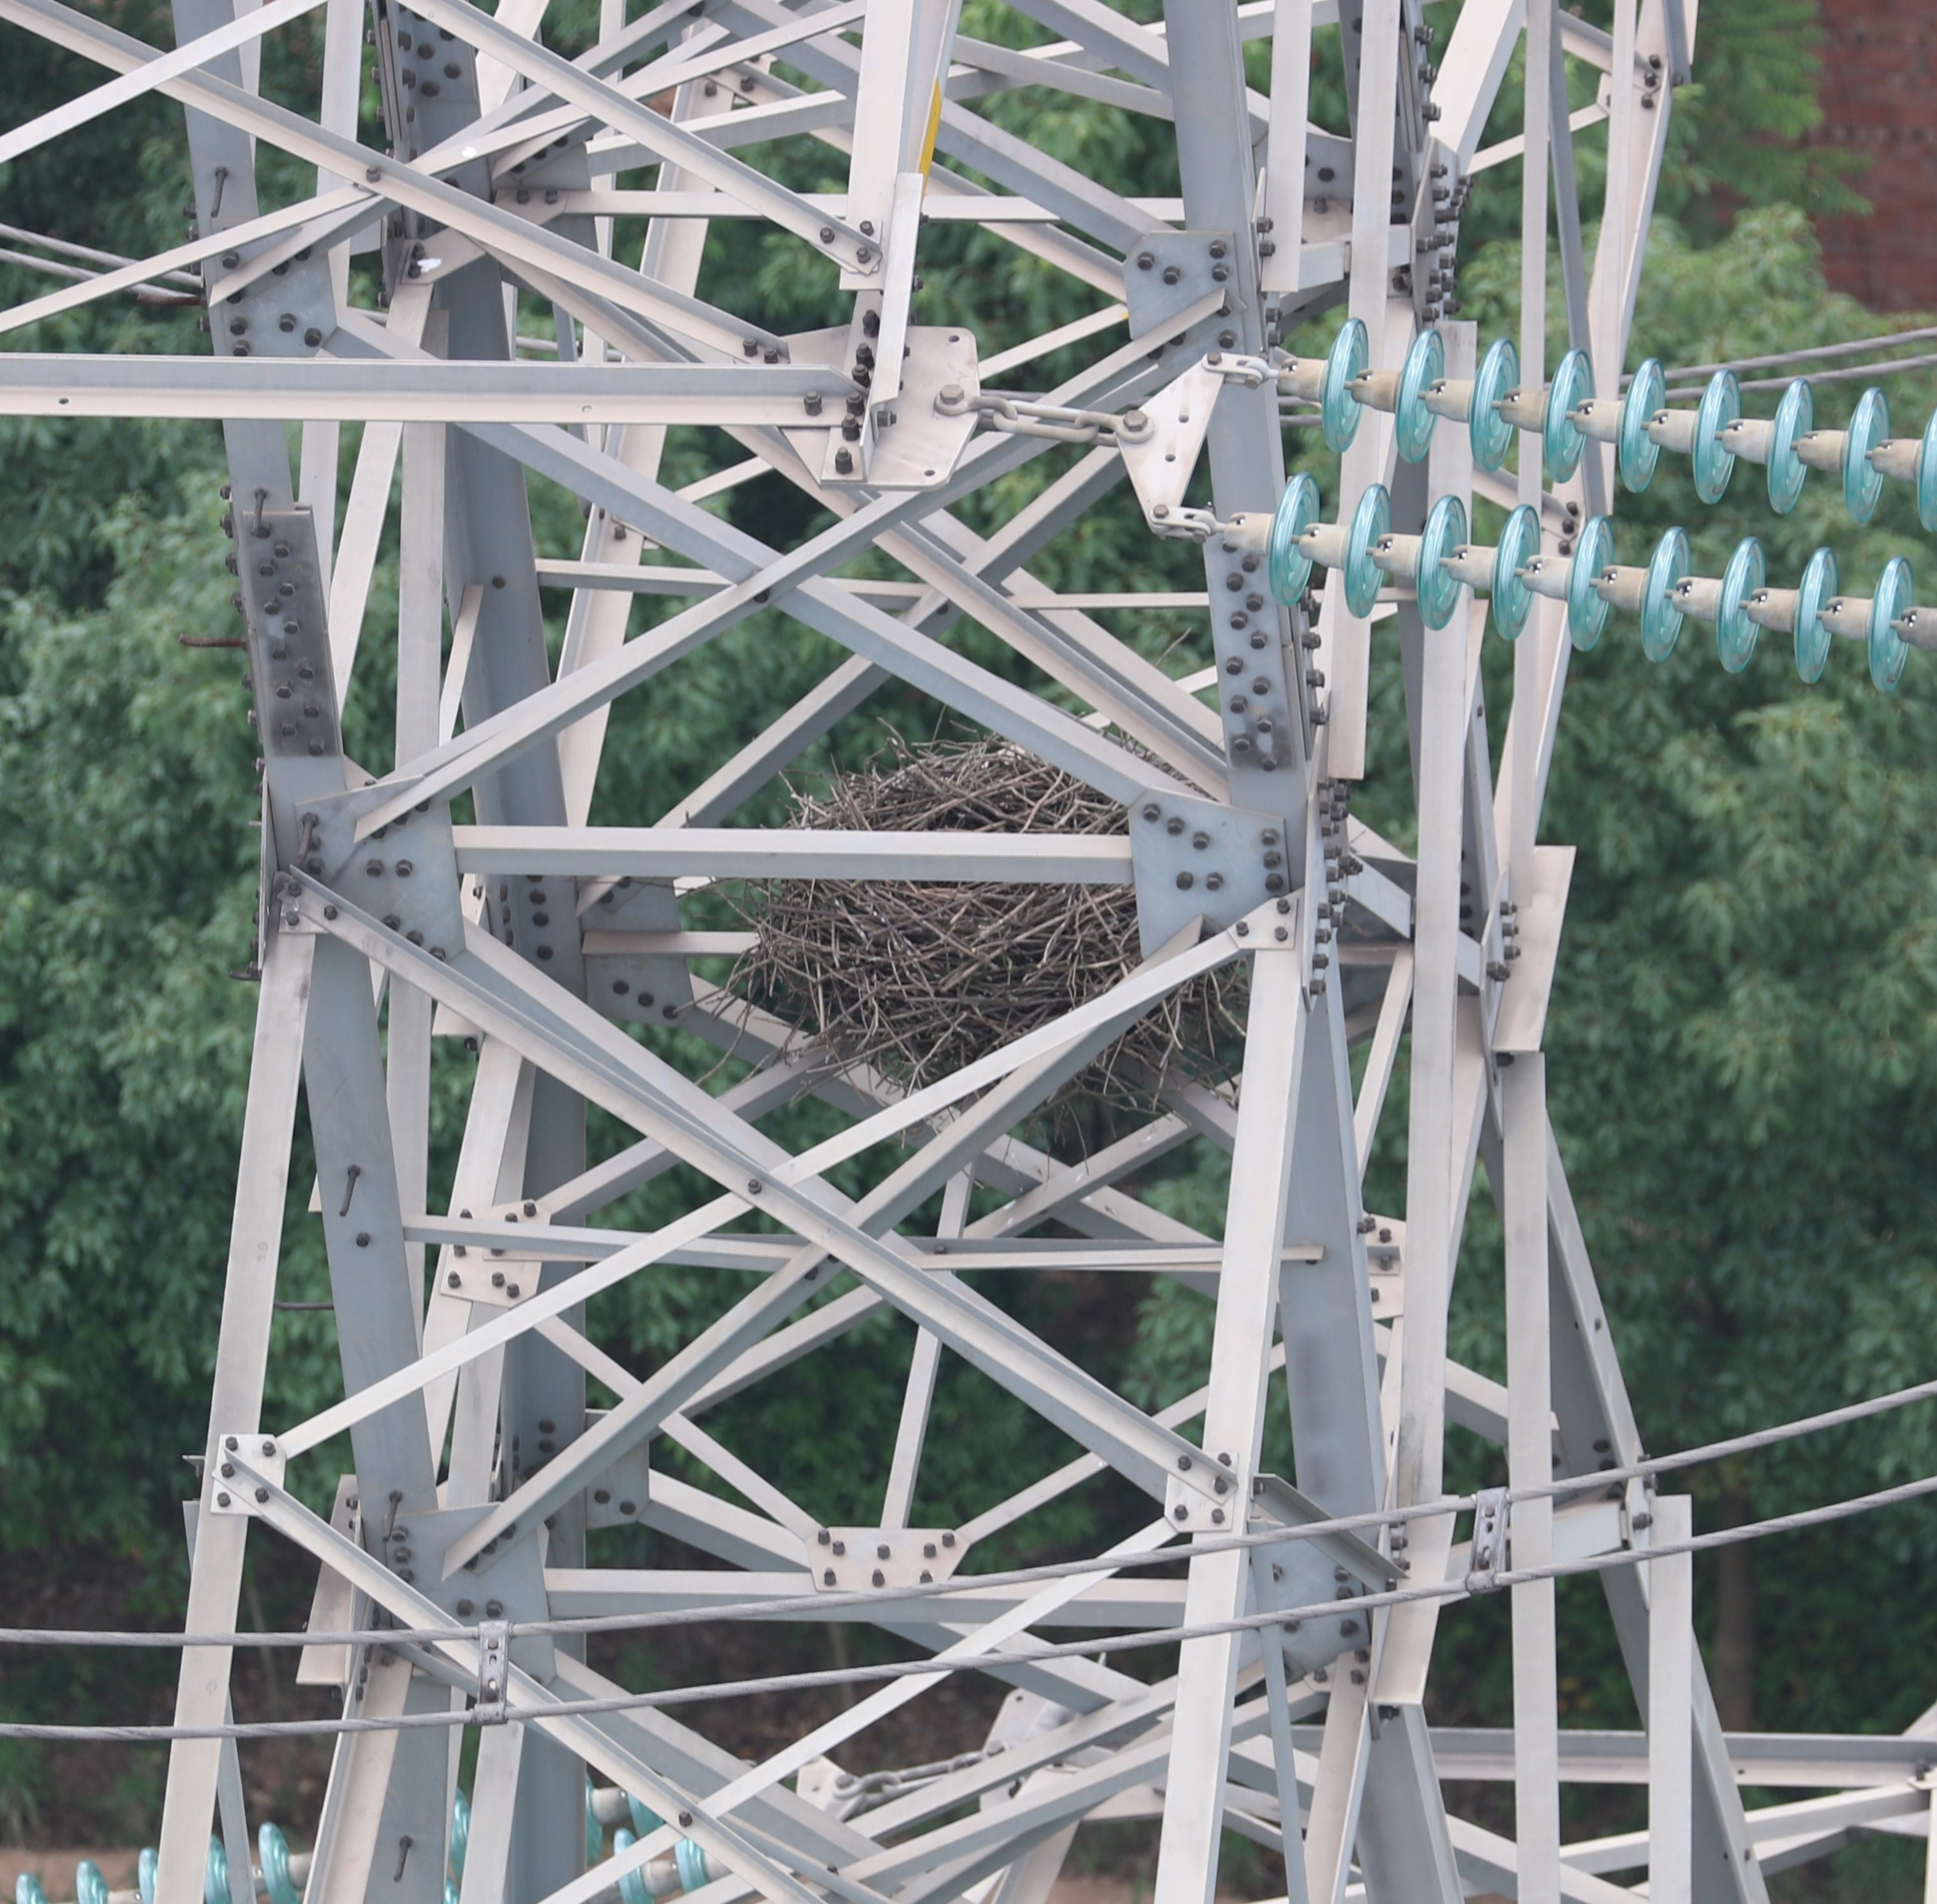niaowo: (746, 708, 1274, 1126)
